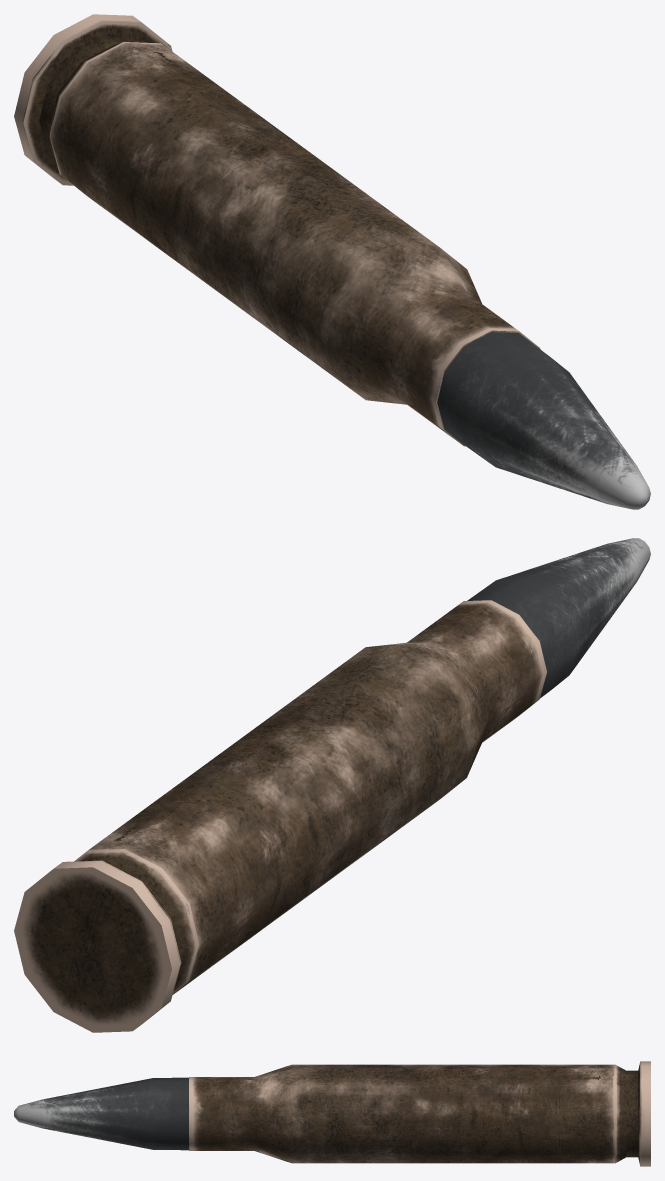
File: bullet_1.obj
The picture shows the model from 3 angles, top to bottom: view 1: azimuth 30°, elevation 25°; view 2: azimuth 150°, elevation 25°; view 3: azimuth 270°, elevation 25°; orthographic projection. The views are drawn at different scales.
Parts seen in each view (by area): view 1: Cylinder.002; view 2: Cylinder.002; view 3: Cylinder.002.
Boxes of the visible parts, x1,y1,x2,y2 form: Cylinder.002: (14,14,650,509); Cylinder.002: (14,538,650,1032); Cylinder.002: (14,1061,650,1166).
Bounding box in the file's own units: 0.7074 × 0.7074 × 4.26.
Materials: 1 (1 with a texture image).
